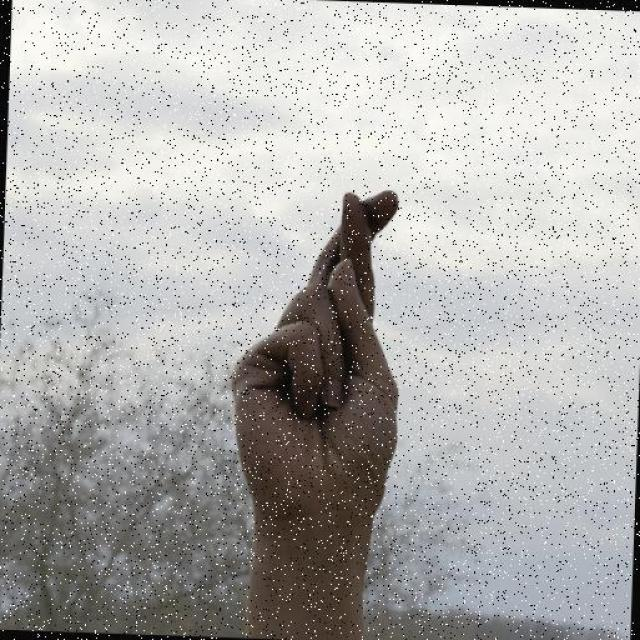R: (218, 177, 417, 554)
